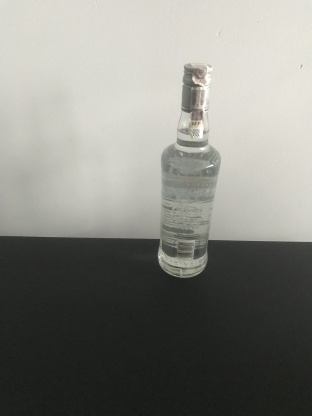nakretka: (179, 61, 214, 113)
